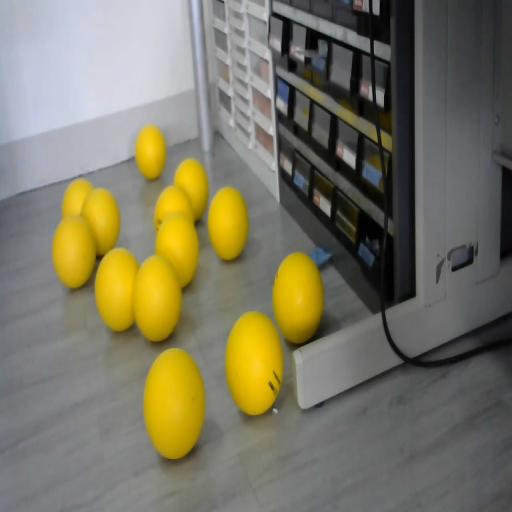FUEL: (142, 345, 206, 458), (224, 310, 284, 414), (272, 251, 324, 343), (94, 246, 139, 330), (155, 213, 201, 288), (52, 214, 96, 289), (207, 186, 249, 260), (173, 157, 209, 221), (134, 124, 166, 180), (61, 178, 94, 218)
